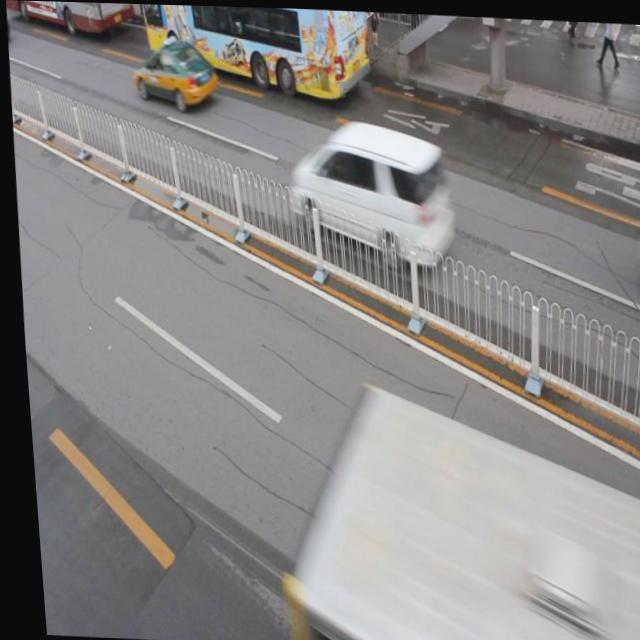car: (129, 37, 220, 111)
truck: (282, 115, 454, 266)
van: (273, 381, 640, 640), (138, 3, 370, 99), (5, 0, 135, 37)
